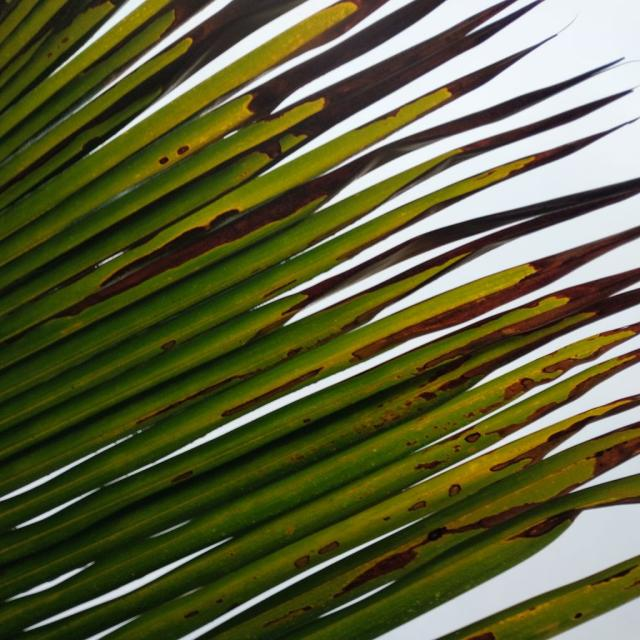gray leaf spot: (18, 5, 640, 640)
